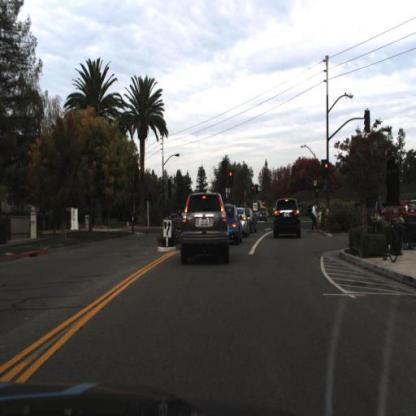car: (180, 190, 230, 259), (273, 195, 303, 238), (382, 198, 416, 219), (224, 203, 242, 240), (235, 207, 251, 234)
pedestrian: (311, 202, 321, 231)
trafficLight-Red: (323, 160, 332, 183), (229, 168, 237, 184)
